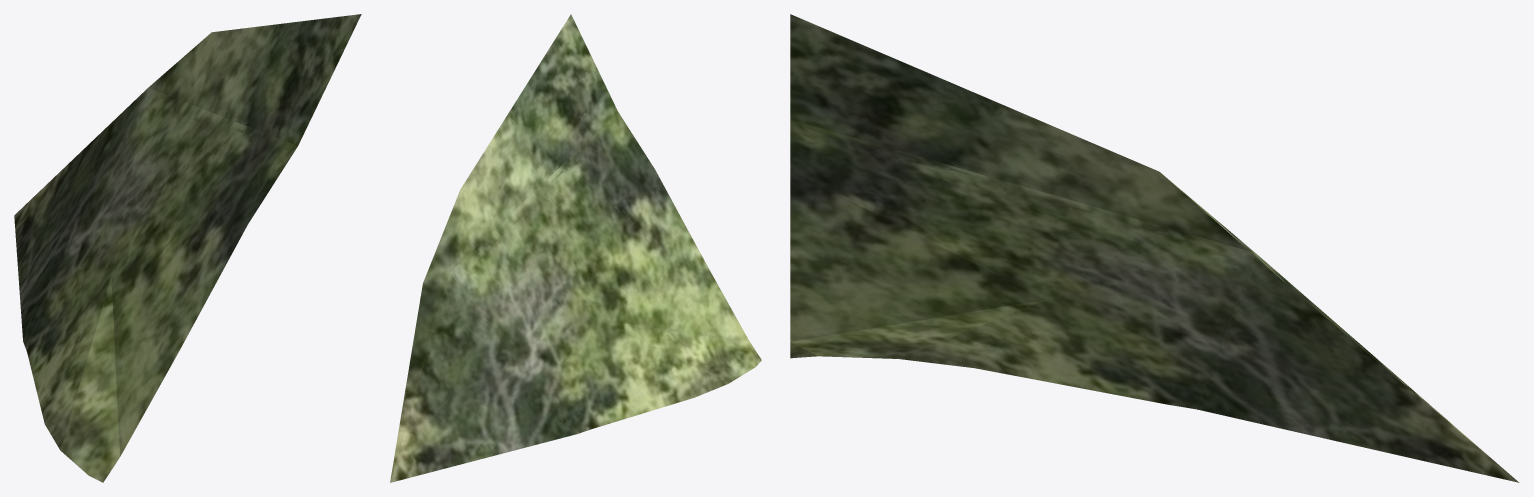
3 renders of one model, left to right at view 1: azimuth 30°, elevation 25°; view 2: azimuth 150°, elevation 25°; view 3: azimuth 270°, elevation 25°, orthographic. The views are drawn at different scales.
Size of the model in its own units: 2.49 by 3.69 by 4.89.
Materials: 1 (1 with a texture image).
